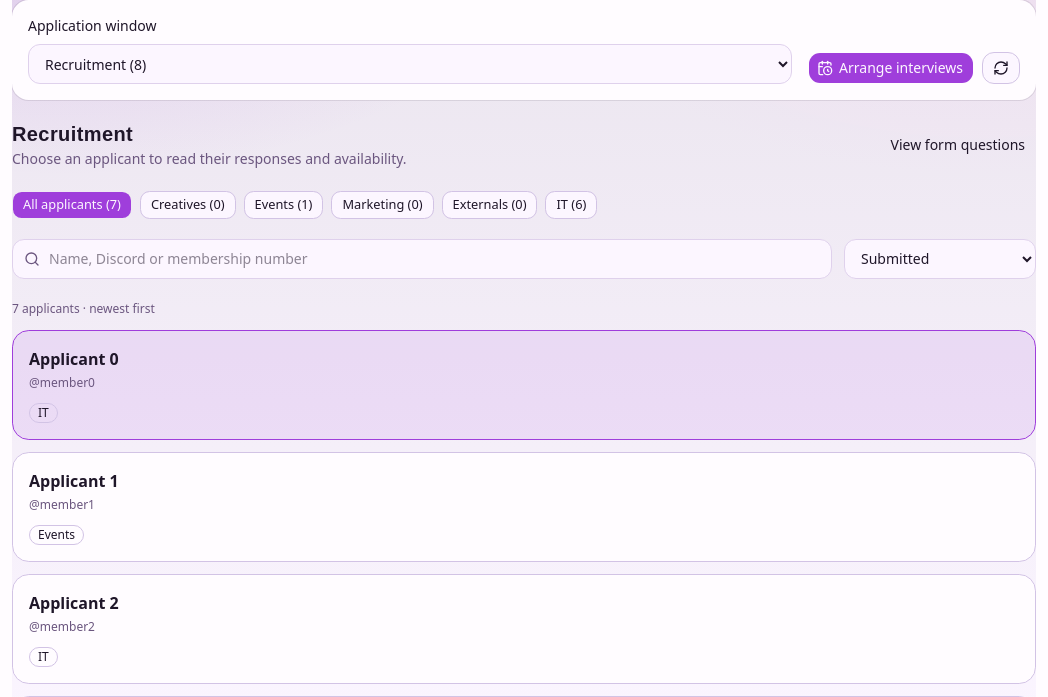
application browser › filters portfolios, searches applicants and shows withdrawn accurately
The image size is (1048, 697).
Expected: the button "IT (6)" is shown, [546, 191, 597, 219]
Click the button "Events (1)" at (284, 205), box [244, 191, 323, 219]
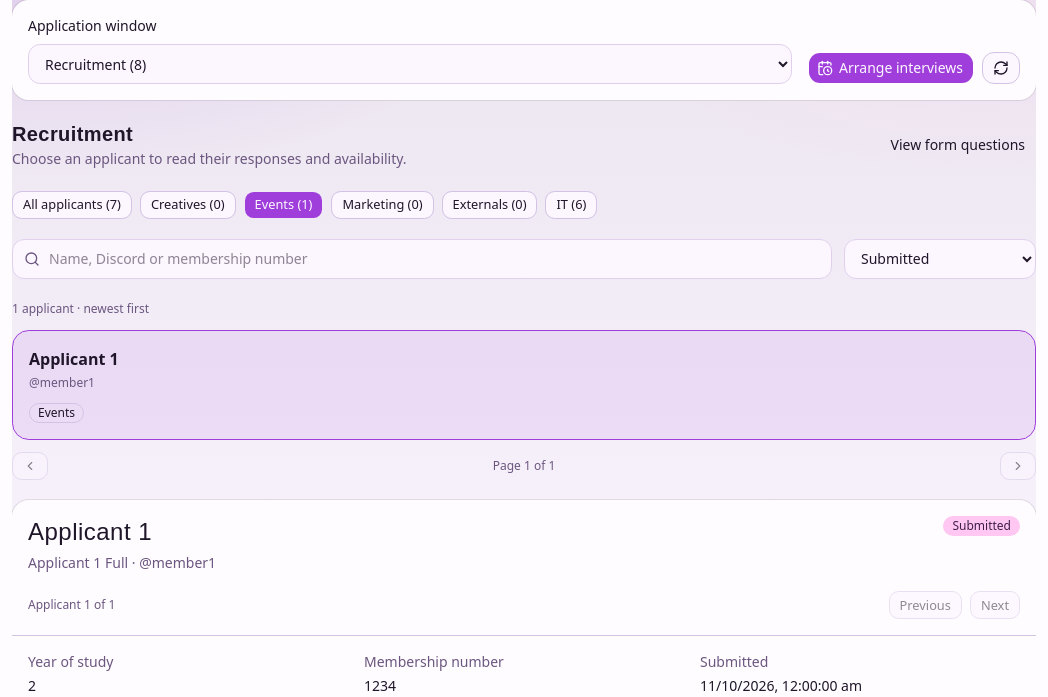
Now the heading "Applicant 1" is shown, box [28, 518, 152, 545]
Click the button "All applicants (7)" at (72, 205), box [12, 191, 132, 219]
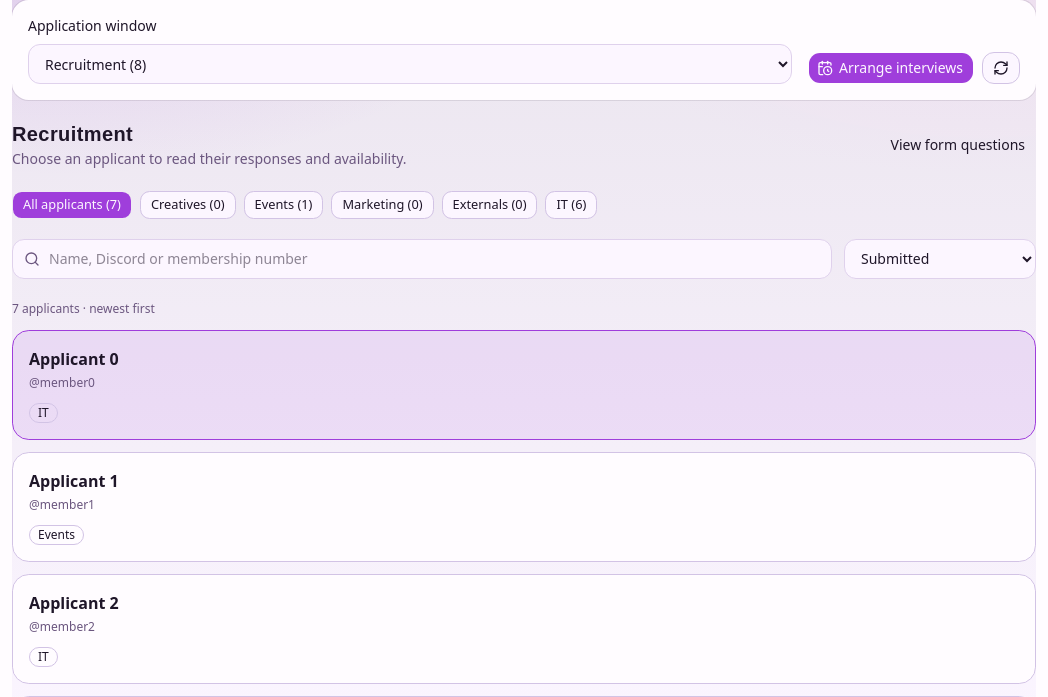
Type "member3" into the field named "Search applicants" at (422, 259), box [12, 239, 832, 279]
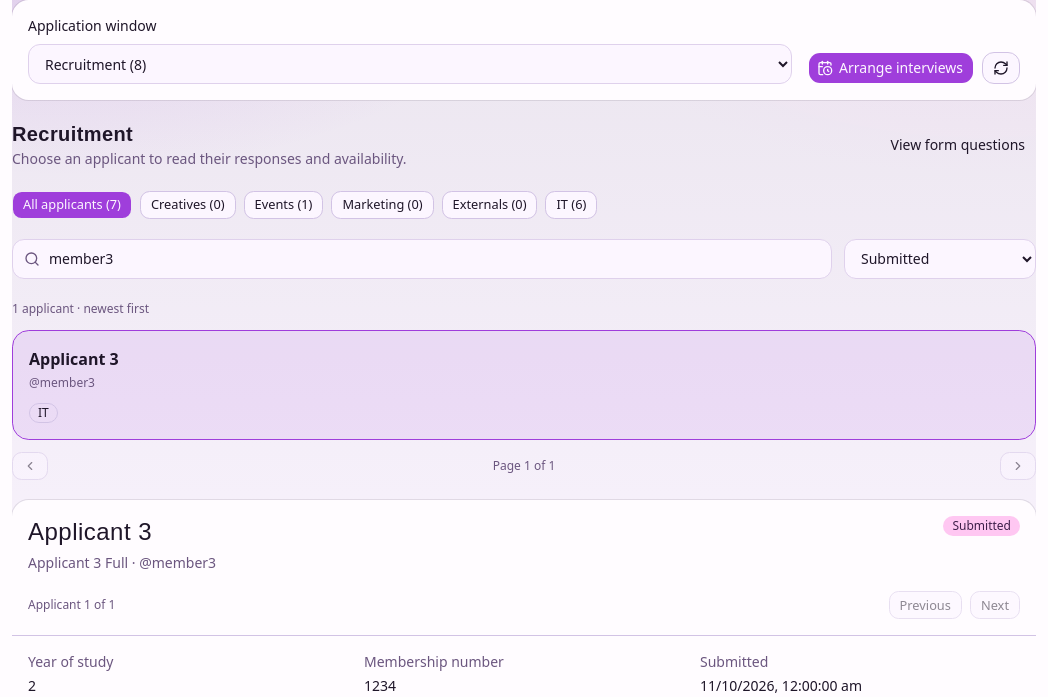
Now the heading "Applicant 3" is shown, box [28, 518, 152, 545]
Clear the field named "Search applicants" at (422, 259), box [12, 239, 832, 279]
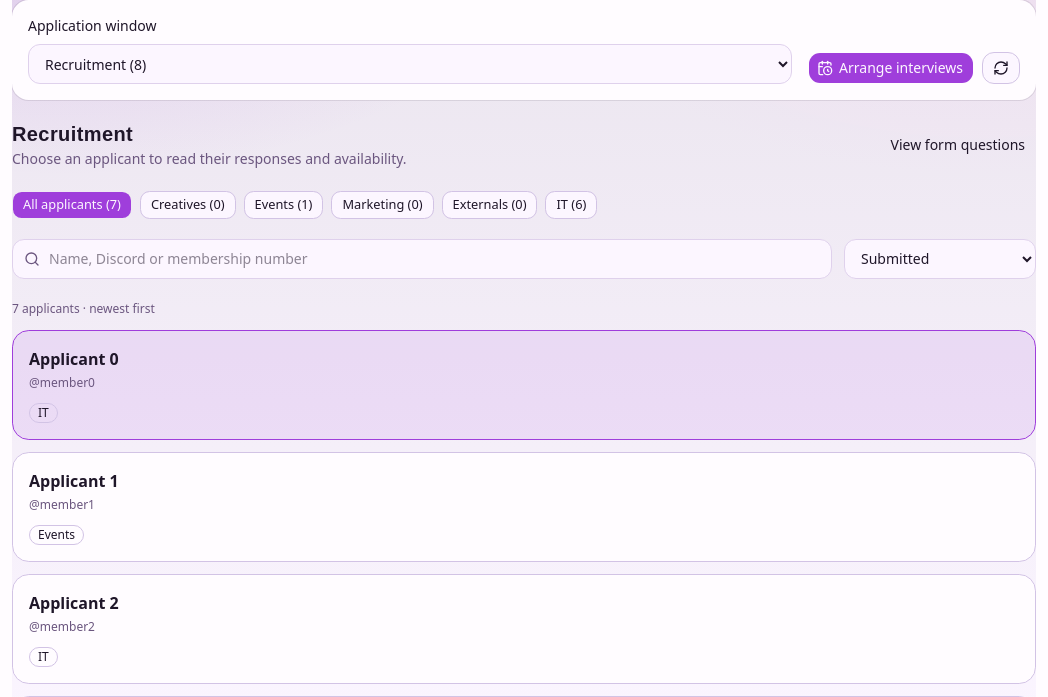
Select "Withdrawn" in the dropdown named "Application status" at (940, 259), box [844, 239, 1036, 279]
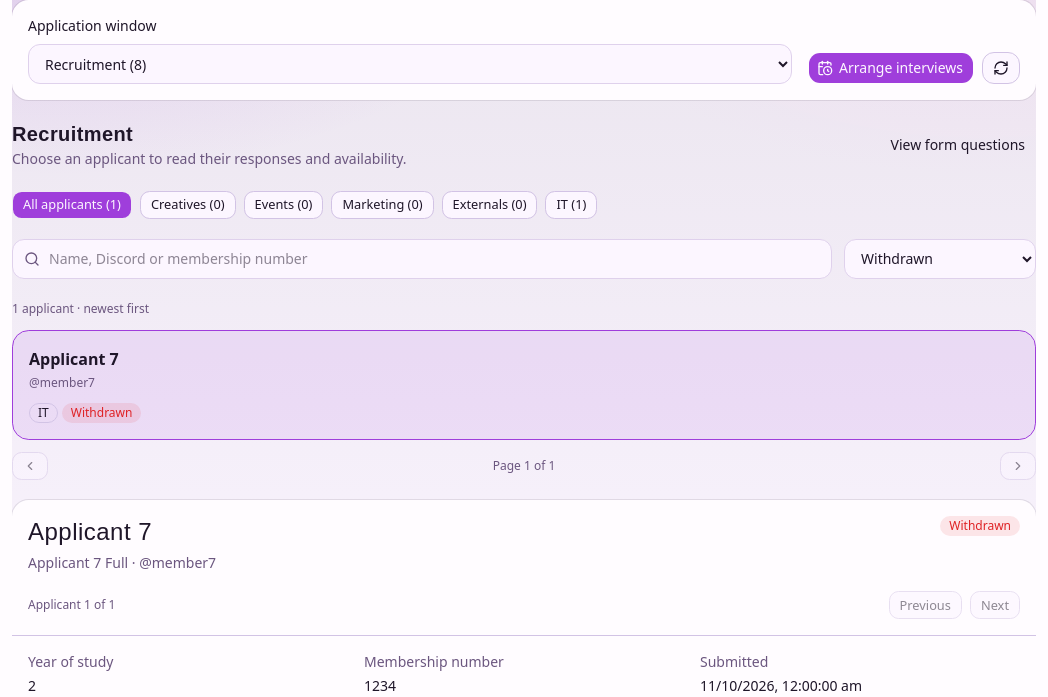
Now the heading "Applicant 7" is shown, box [28, 518, 152, 545]
